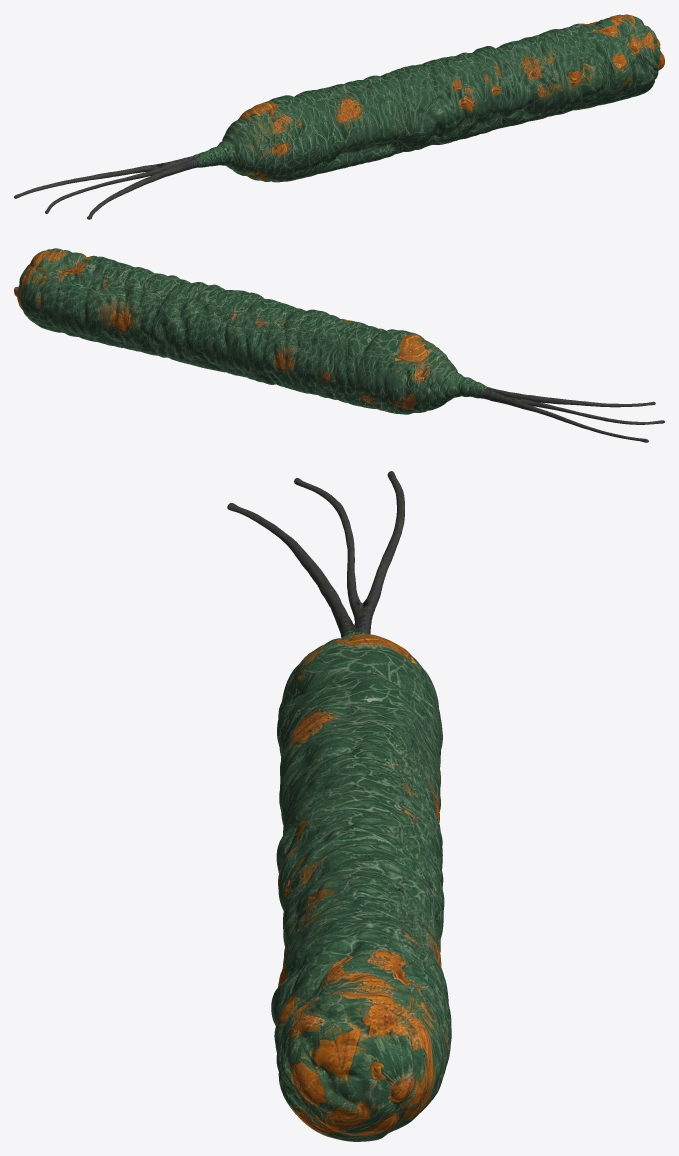
The model's file is bacteria2.glb.
The picture shows the model from 3 angles, top to bottom: view 1: azimuth 30°, elevation 25°; view 2: azimuth 150°, elevation 25°; view 3: azimuth 270°, elevation 25°; orthographic projection. The views are drawn at different scales.
Visible parts, largest first — view 1: tripo_node_5411f838-f05c-41f6-98a5-928945239a8f; view 2: tripo_node_5411f838-f05c-41f6-98a5-928945239a8f; view 3: tripo_node_5411f838-f05c-41f6-98a5-928945239a8f.
Part boxes in pixels (left/top/right/bottom): tripo_node_5411f838-f05c-41f6-98a5-928945239a8f: left=14, top=14, right=664, bottom=219; tripo_node_5411f838-f05c-41f6-98a5-928945239a8f: left=14, top=248, right=664, bottom=442; tripo_node_5411f838-f05c-41f6-98a5-928945239a8f: left=227, top=471, right=451, bottom=1141.
Bounding box in the file's own units: 0.9997 × 0.1169 × 0.1538.
1 material, 1 textured.
